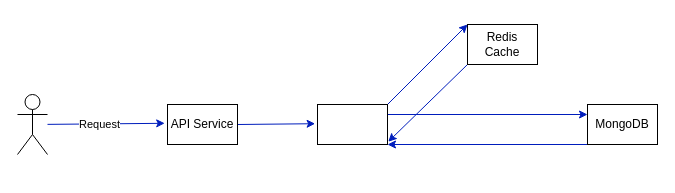
Some shapes in this 675 by 193 pixel diagram are drawn without their labels. Here are the shapes that lost their labels. From the top down, the centre of each, then its label:
the point at 32,124: user
the point at 352,124: URL Service
